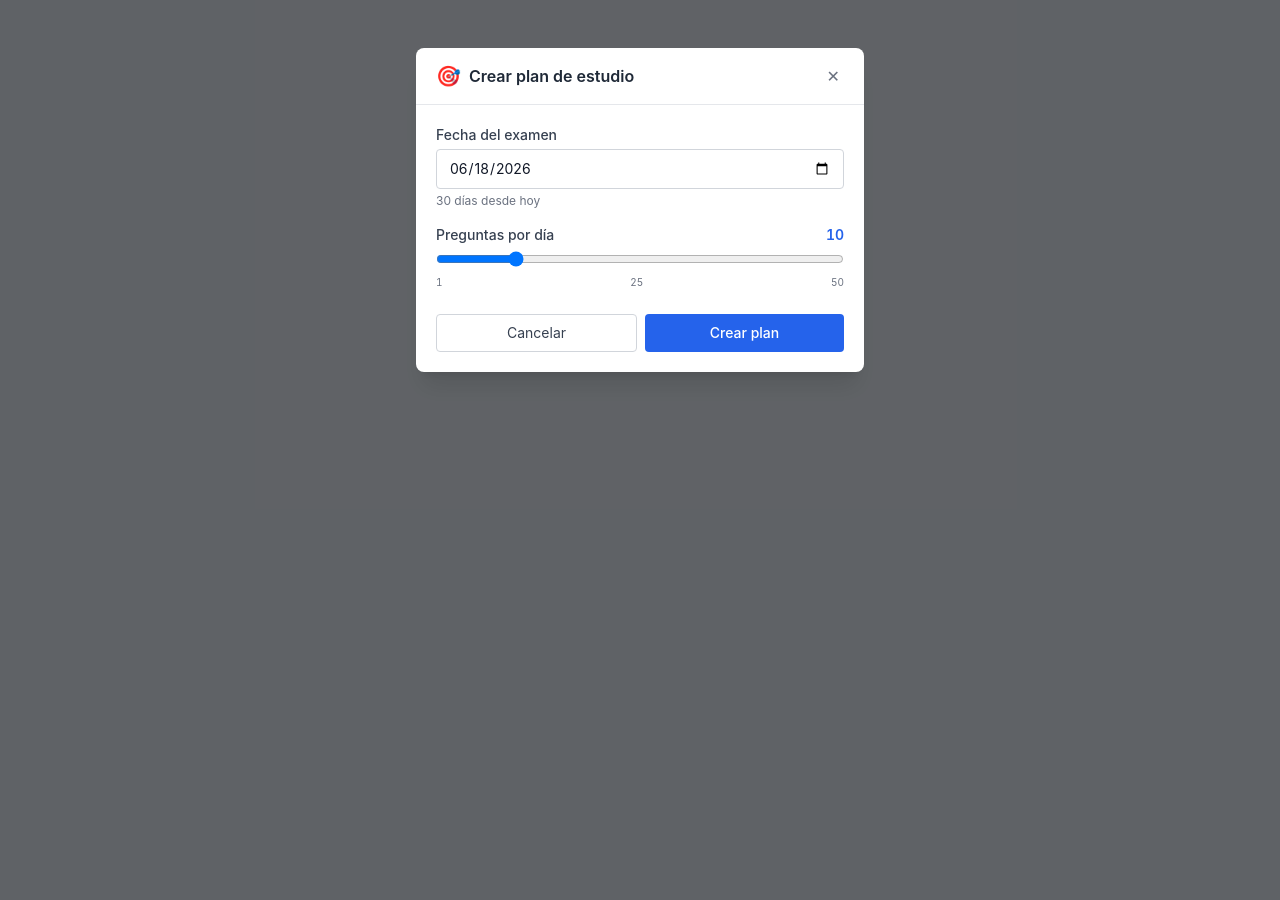
Test: CreateStudyPlanModal › rejects past dates client-side
Type "2000-01-01" into the date field at x=640, y=169, box [436,149,844,189]
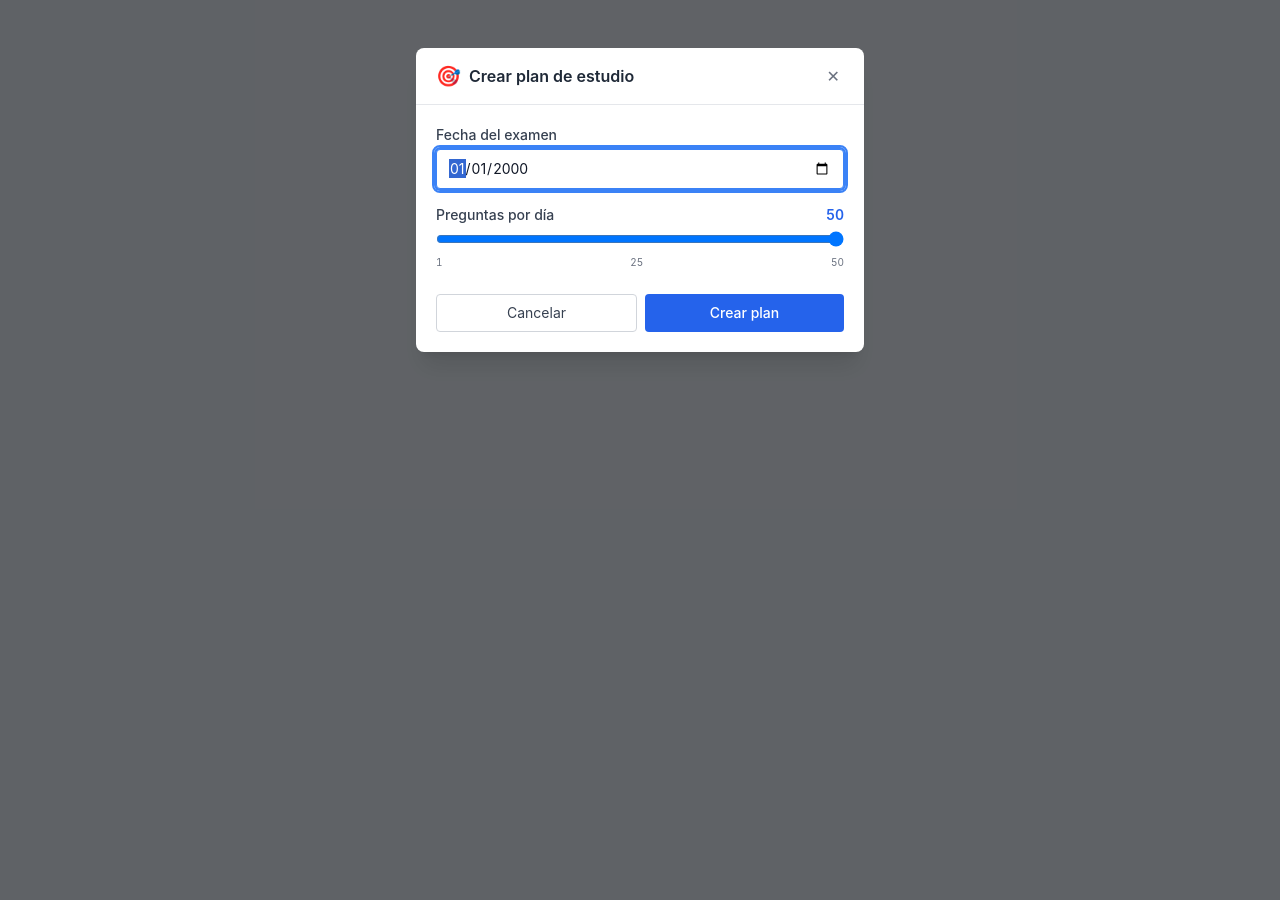
Click the button "Crear plan" at x=744, y=313, box [645,294,844,332]
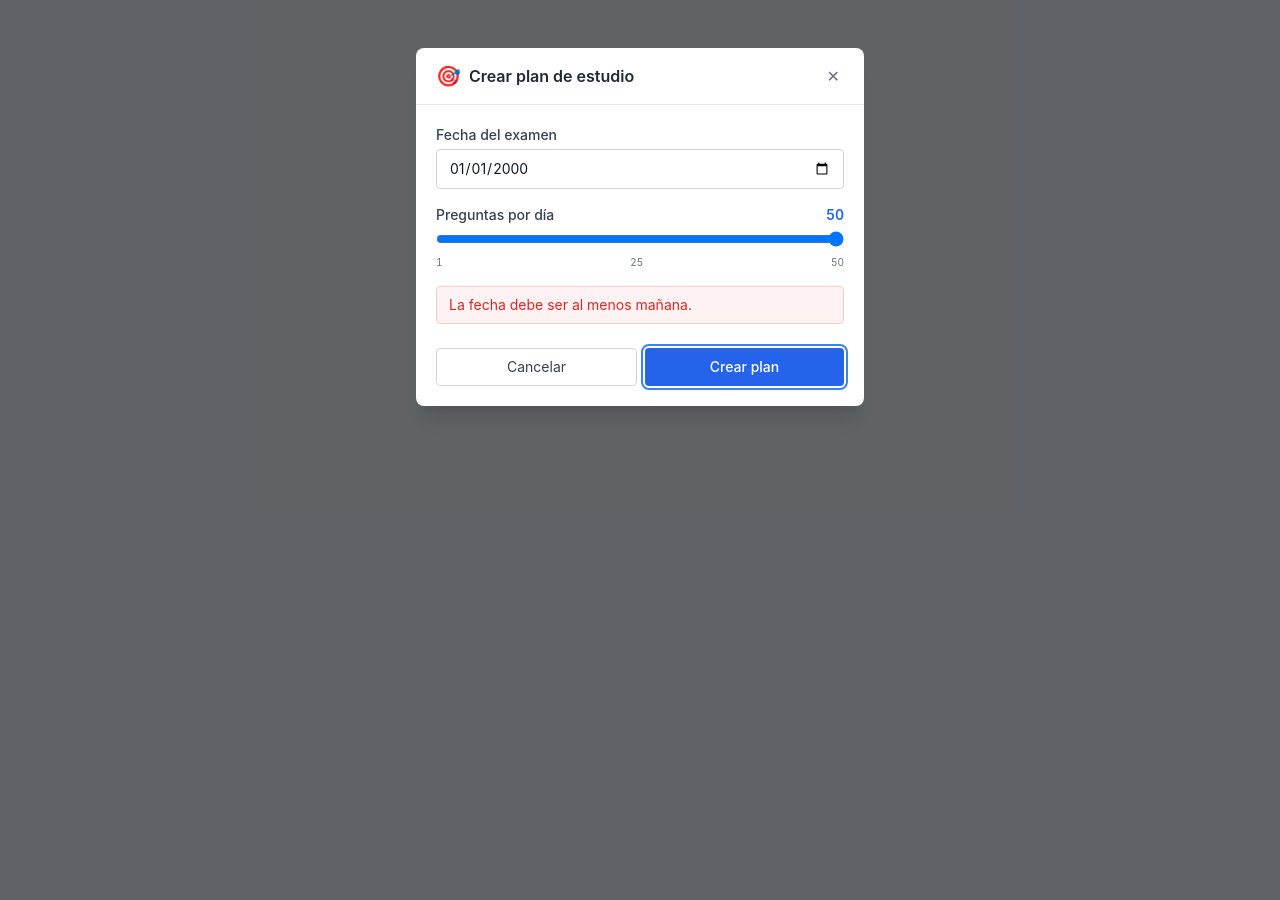
Now the text "La fecha debe ser al menos mañana." is shown, box [436,286,844,324]
